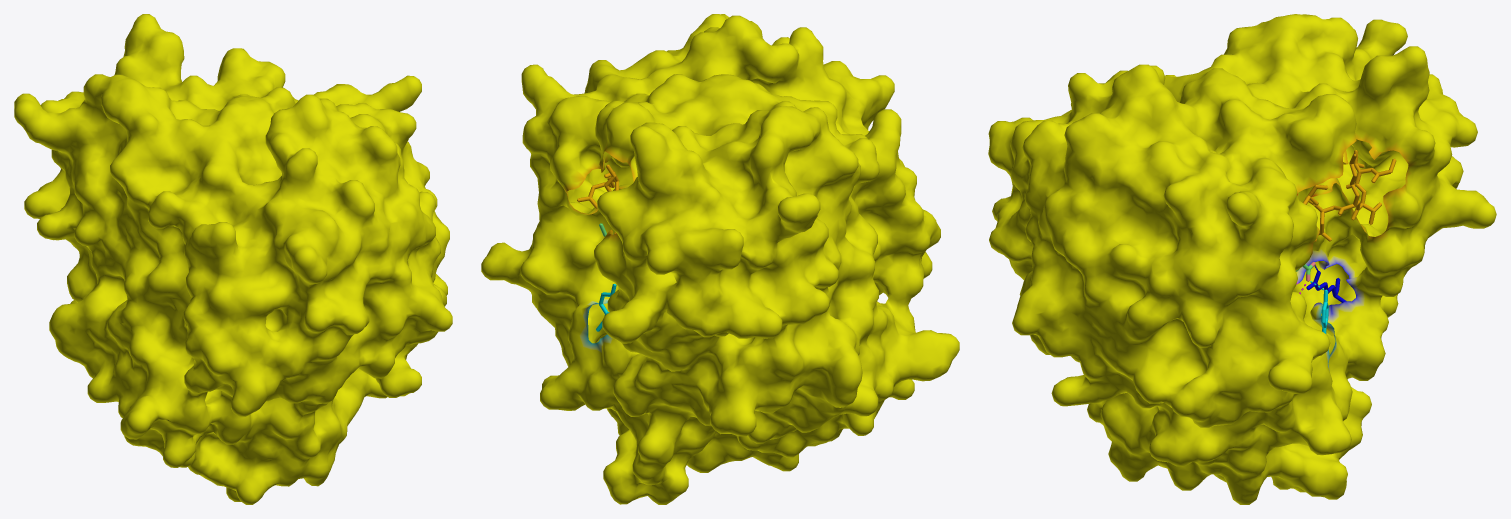
File: plasma state.glb
3 renders of one model, left to right at view 1: azimuth 30°, elevation 25°; view 2: azimuth 150°, elevation 25°; view 3: azimuth 270°, elevation 25°, orthographic. The views are drawn at different scales.
Parts seen in each view (by area): view 1: geom123-material, geom124-material, geom125-material; view 2: geom123-material, geom124-material, geom125-material; view 3: geom124-material, geom123-material, geom125-material.
Boxes of the visible parts, <box> form: geom123-material: <box>24,23,444,504</box>; geom124-material: <box>14,14,452,504</box>; geom125-material: <box>24,79,449,500</box>; geom123-material: <box>561,14,950,504</box>; geom124-material: <box>481,14,959,504</box>; geom125-material: <box>505,48,959,504</box>; geom124-material: <box>988,14,1487,504</box>; geom123-material: <box>989,14,1496,495</box>; geom125-material: <box>1012,53,1475,504</box>.
Size of the model in its own units: 52.2 by 55.33 by 59.18.
